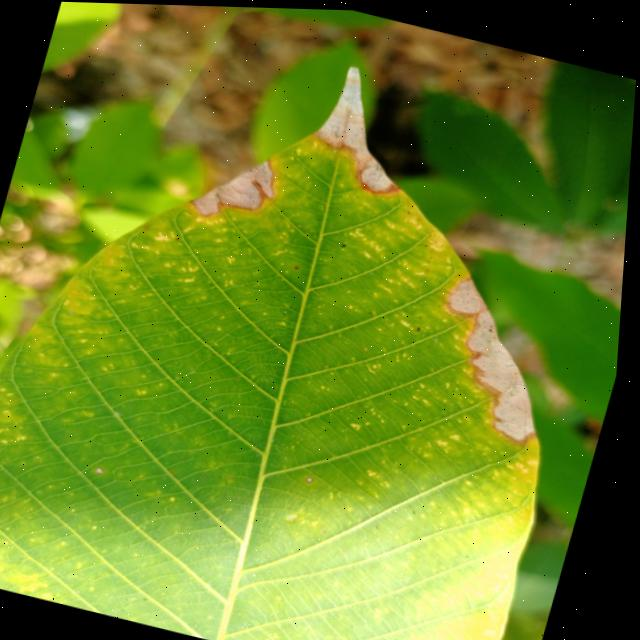Colletotrichum: (101, 466, 111, 474), (311, 474, 320, 482), (297, 263, 302, 268)
Leaf-Blight: (420, 270, 577, 441), (302, 58, 435, 198), (190, 142, 289, 230)
